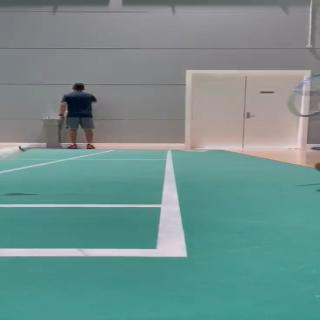Shuttle: (0, 143, 29, 161)
